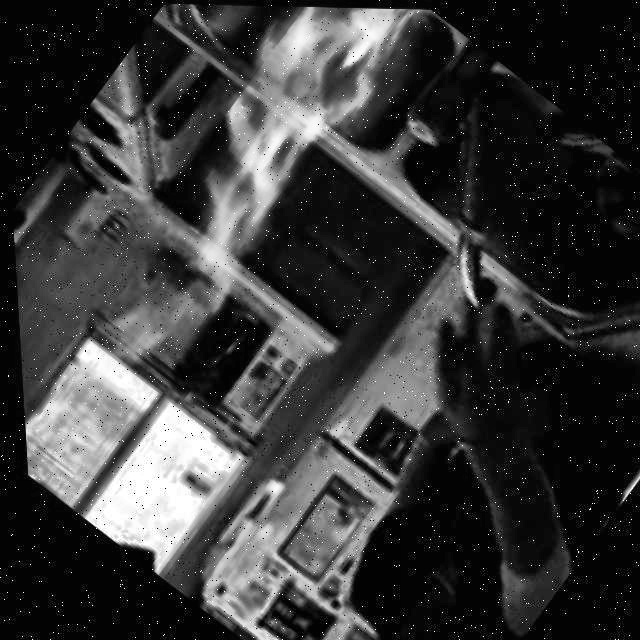Fire: (32, 1, 462, 403)
